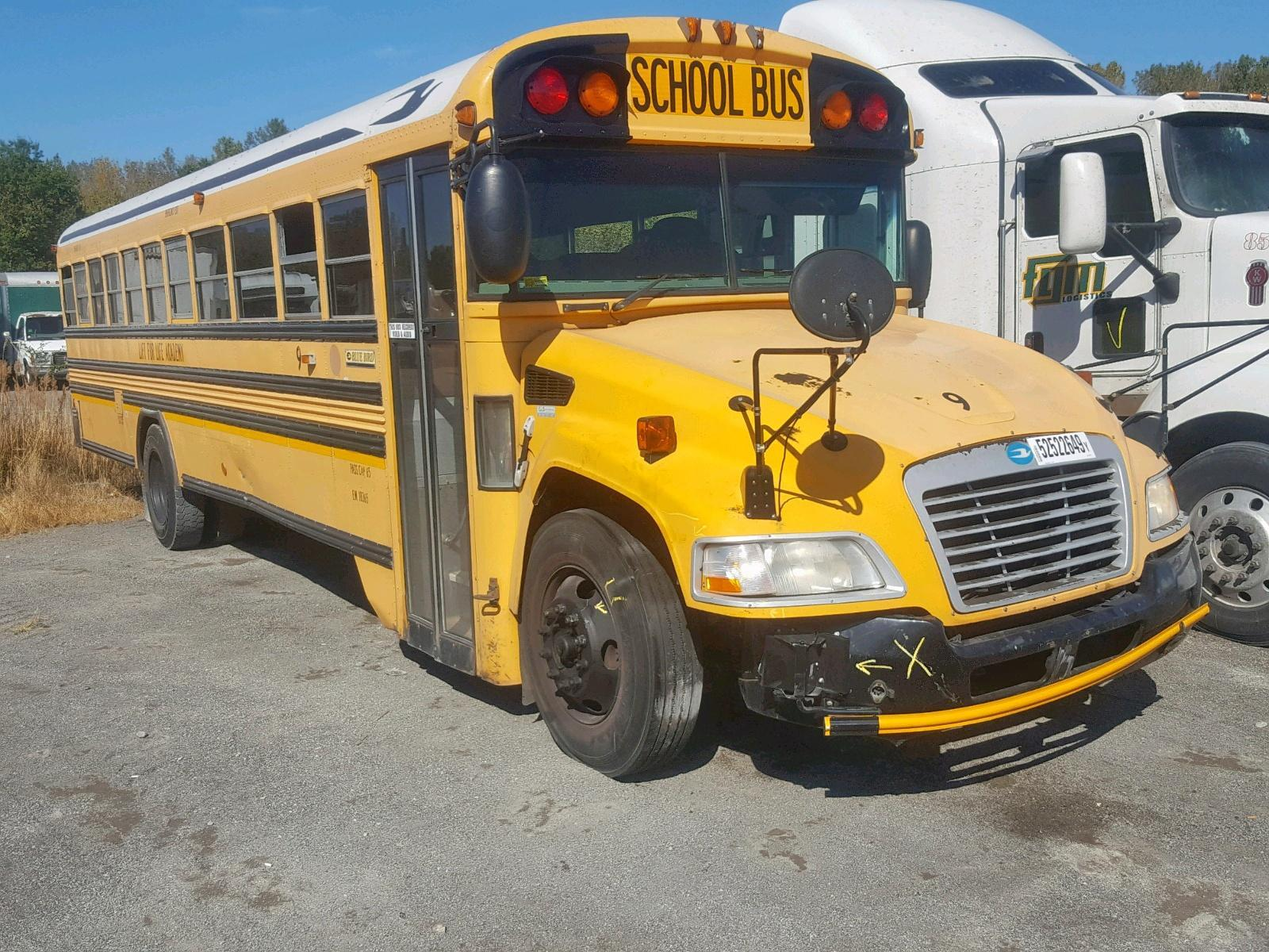Bus: (57, 40, 1187, 696)
